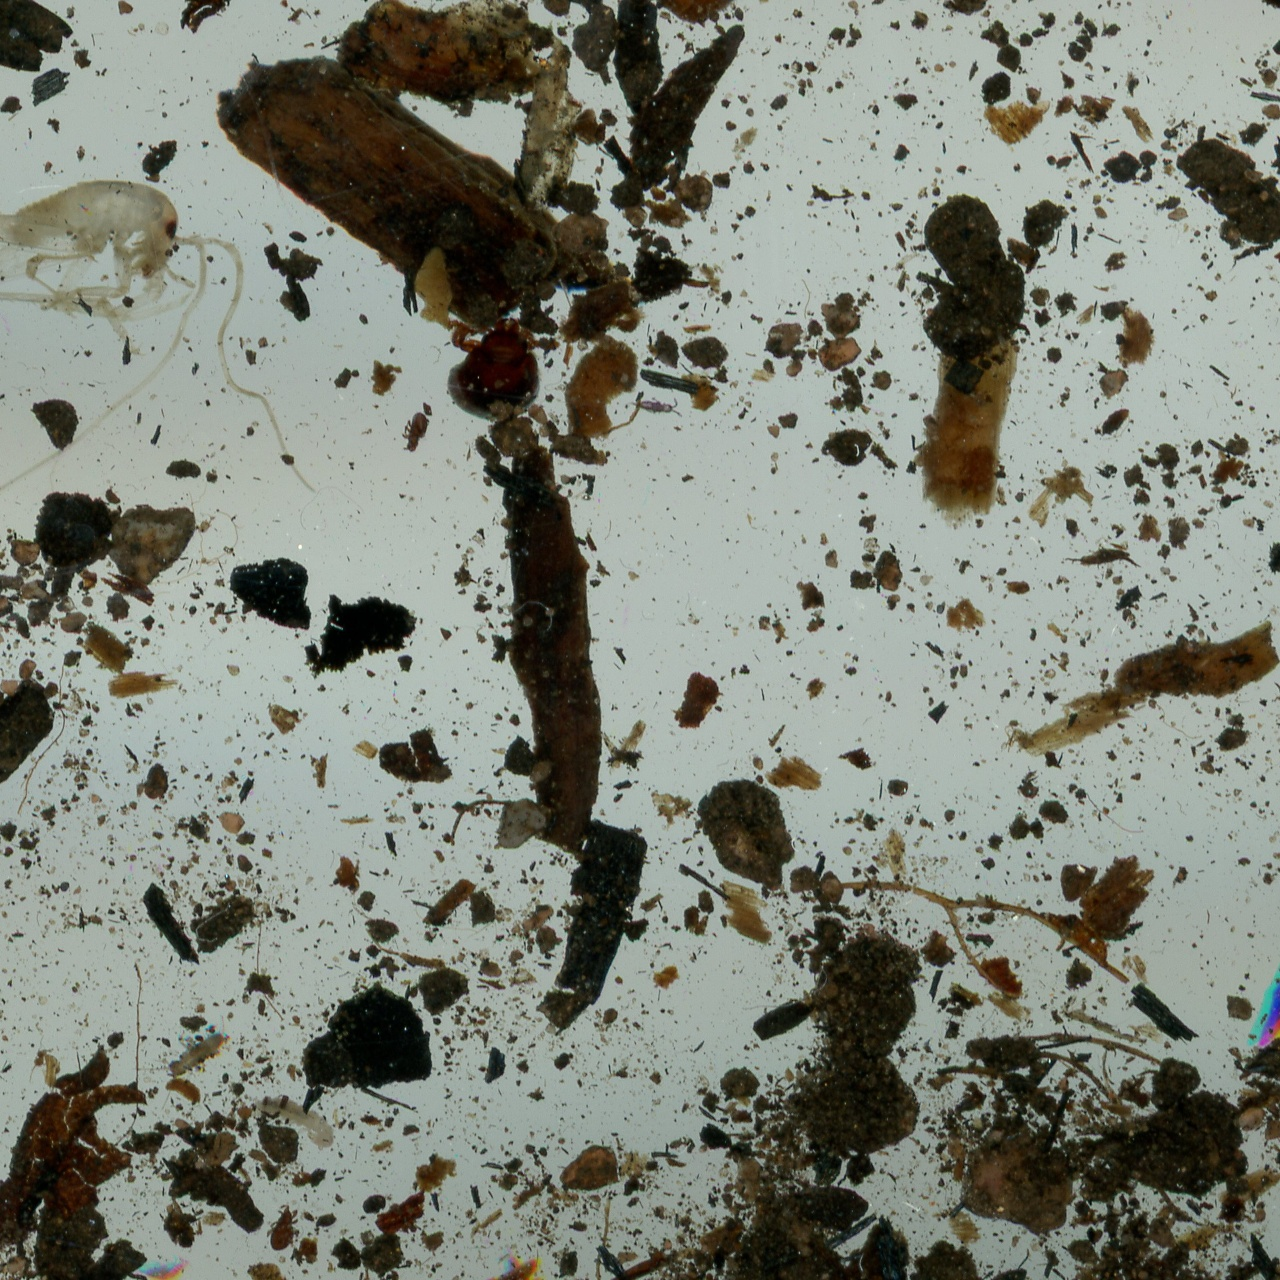arthropod: (0, 164, 332, 512), (510, 900, 558, 935), (627, 395, 685, 418)
